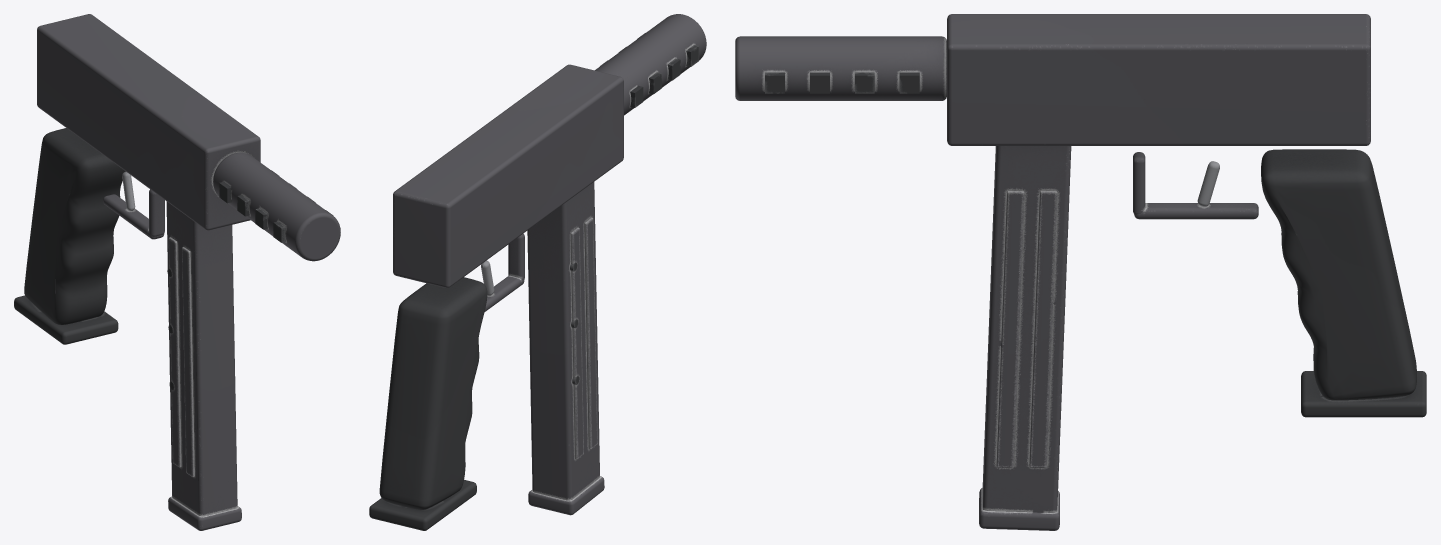
The model's file is tec9.fbx.
3 views of the same model, side by side, from view 1: azimuth 30°, elevation 25°; view 2: azimuth 150°, elevation 25°; view 3: azimuth 270°, elevation 25° (orthographic). The views are drawn at different scales.
Parts seen in each view (by area): view 1: tec9; view 2: tec9; view 3: tec9.
Part boxes in pixels (<box>): tec9: <box>14,14,340,530</box>; tec9: <box>369,14,706,530</box>; tec9: <box>735,14,1426,530</box>.
Size of the model in its own units: 0.0324 by 0.2169 by 0.2774.
